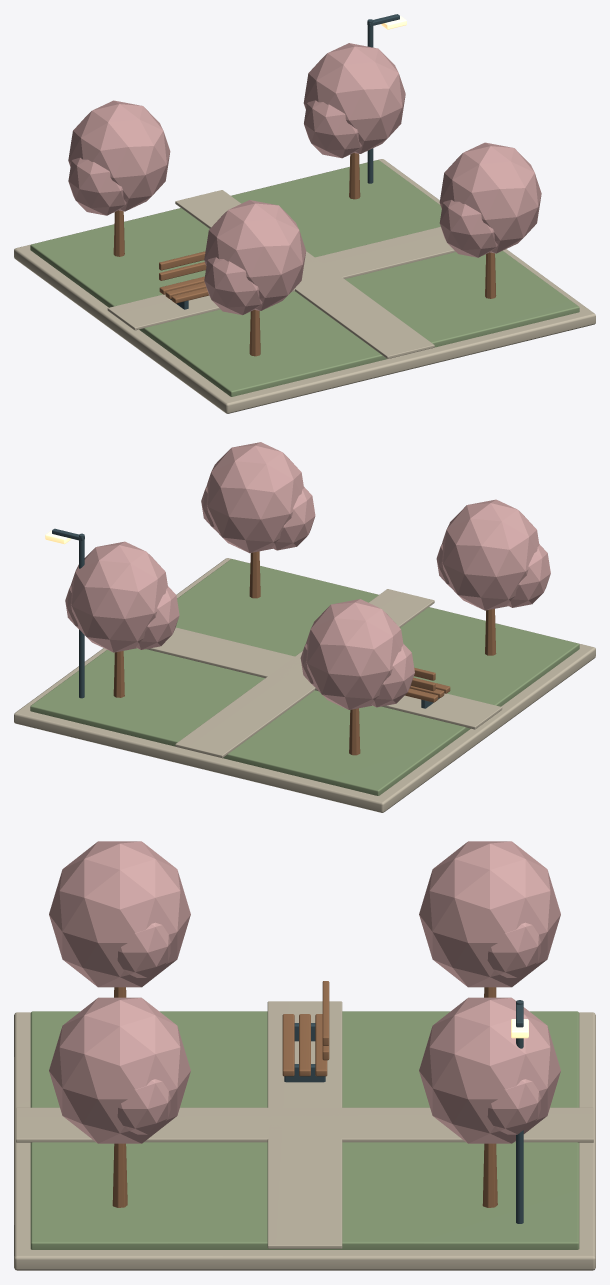
The model's file is park.glb.
The picture shows the model from 3 angles, top to bottom: view 1: azimuth 30°, elevation 25°; view 2: azimuth 150°, elevation 25°; view 3: azimuth 270°, elevation 25°; orthographic projection. The views are drawn at different scales.
Parts seen in each view (by area): view 1: park_Garden_Lawn, park_Site_Paving, park_Tree_Crown.009, park_Tree_Crown, park_Tree_Crown.003, park_Tree_Crown.006, park_Garden_Walk_Z, park_Garden_Walk_X, park_Tree_Crown.004, park_Tree_Crown.001, park_Tree_Crown.010, park_Tree_Crown.007; view 2: park_Garden_Lawn, park_Site_Paving, park_Tree_Crown.006, park_Tree_Crown.003, park_Tree_Crown, park_Tree_Crown.009, park_Garden_Walk_Z, park_Garden_Walk_X, park_Tree_Crown.004, park_Tree_Crown.007, park_Tree_Crown.010, park_Tree_Crown.001 (+5 smaller); view 3: park_Garden_Lawn, park_Site_Paving, park_Garden_Walk_X, park_Tree_Crown.003, park_Tree_Crown.006, park_Tree_Crown, park_Tree_Crown.009, park_Garden_Walk_Z, park_Tree_Crown.011, park_Tree_Crown.005, park_Tree_Crown.002, park_Tree_Crown.008 (+6 smaller).
Part boxes in pixels (bbox=[...]): park_Garden_Lawn: bbox=[30, 160, 579, 396]; park_Site_Paving: bbox=[14, 159, 595, 413]; park_Tree_Crown.009: bbox=[303, 43, 405, 153]; park_Tree_Crown: bbox=[68, 100, 170, 211]; park_Tree_Crown.003: bbox=[439, 142, 541, 253]; park_Tree_Crown.006: bbox=[204, 200, 306, 310]; park_Garden_Walk_Z: bbox=[175, 190, 434, 358]; park_Garden_Walk_X: bbox=[107, 227, 455, 330]; park_Tree_Crown.004: bbox=[439, 199, 497, 257]; park_Tree_Crown.001: bbox=[68, 157, 126, 215]; park_Tree_Crown.010: bbox=[304, 100, 361, 158]; park_Tree_Crown.007: bbox=[204, 257, 262, 315]; park_Garden_Lawn: bbox=[30, 559, 579, 795]; park_Site_Paving: bbox=[14, 558, 595, 812]; park_Tree_Crown.006: bbox=[442, 499, 539, 610]; park_Tree_Crown.003: bbox=[206, 442, 303, 553]; park_Tree_Crown: bbox=[306, 599, 403, 709]; park_Tree_Crown.009: bbox=[70, 541, 167, 652]; park_Garden_Walk_Z: bbox=[175, 589, 434, 757]; park_Garden_Walk_X: bbox=[146, 627, 502, 729]; park_Tree_Crown.004: bbox=[272, 487, 315, 550]; park_Tree_Crown.007: bbox=[507, 544, 550, 607]; park_Tree_Crown.010: bbox=[136, 586, 179, 649]; park_Tree_Crown.001: bbox=[371, 644, 414, 707]; park_Garden_Lawn: bbox=[30, 1011, 579, 1249]; park_Site_Paving: bbox=[14, 1012, 595, 1270]; park_Garden_Walk_X: bbox=[267, 1001, 342, 1248]; park_Tree_Crown.003: bbox=[49, 997, 190, 1143]; park_Tree_Crown.006: bbox=[49, 841, 190, 987]; park_Tree_Crown: bbox=[419, 841, 560, 987]; park_Tree_Crown.009: bbox=[419, 997, 560, 1143]; park_Garden_Walk_Z: bbox=[16, 1107, 593, 1142]; park_Tree_Crown.011: bbox=[487, 1079, 540, 1134]; park_Tree_Crown.005: bbox=[117, 1079, 170, 1134]; park_Tree_Crown.002: bbox=[487, 922, 540, 977]; park_Tree_Crown.008: bbox=[117, 922, 170, 977].
Size of the model in its own units: 7.8 by 3.6 by 7.8.
